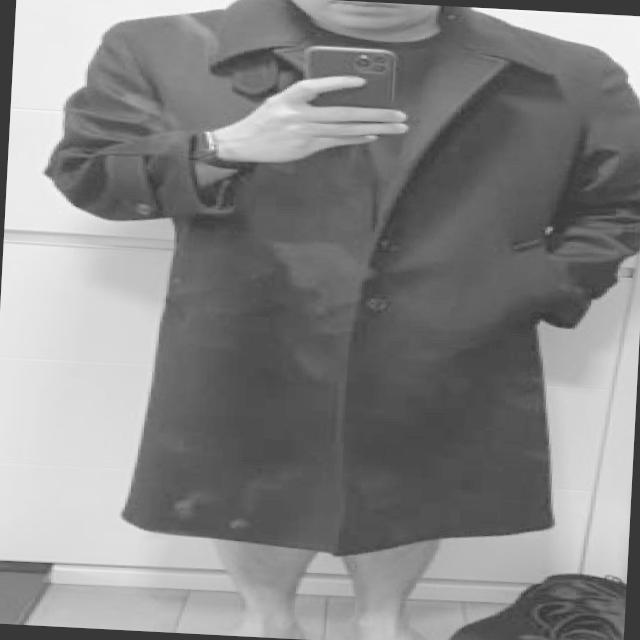coat: (25, 0, 640, 568)
